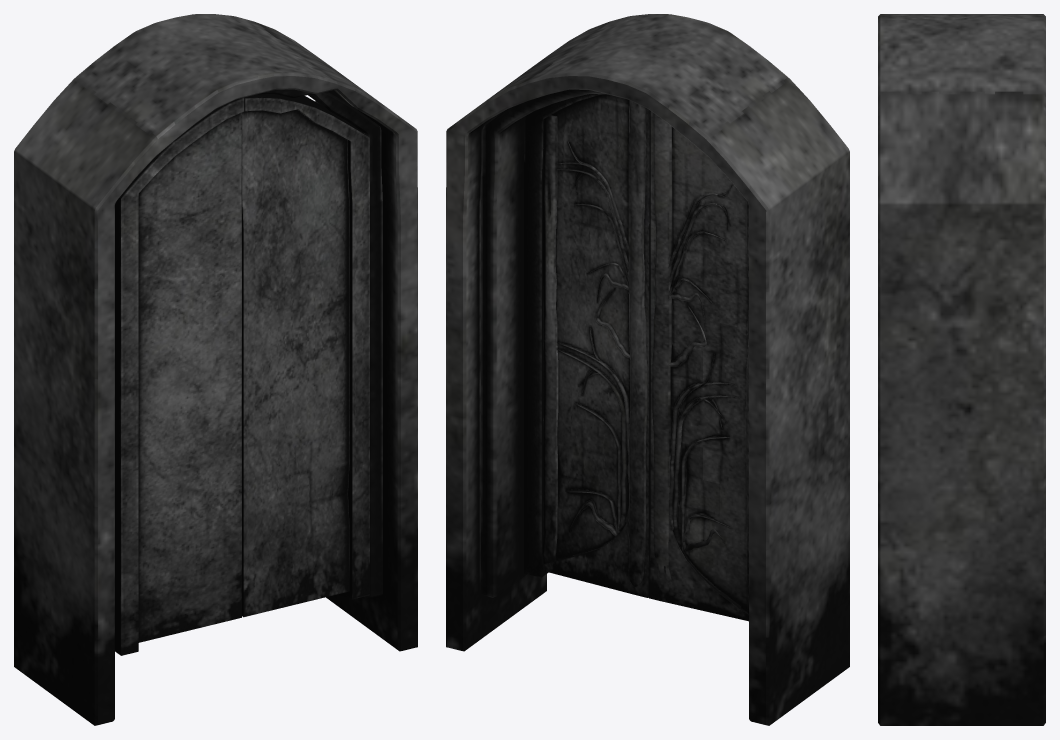
File: moria_gates.glb
3 renders of one model, left to right at view 1: azimuth 30°, elevation 25°; view 2: azimuth 150°, elevation 25°; view 3: azimuth 270°, elevation 25°, orthographic.
Parts seen in each view (by area): view 1: pCube57, polySurface26, polySurface64; view 2: pCube57, polySurface26, polySurface64; view 3: pCube57.
Part boxes in pixels (x1,y1,x2,y2): pCube57: [14, 14, 417, 725]; polySurface26: [242, 94, 369, 617]; polySurface64: [115, 97, 244, 655]; pCube57: [446, 14, 849, 725]; polySurface26: [524, 94, 650, 597]; polySurface64: [649, 111, 748, 621]; pCube57: [878, 14, 1045, 725].
Size of the model in its own units: 1.11 by 2 by 0.4937.
1 material, 1 textured.
